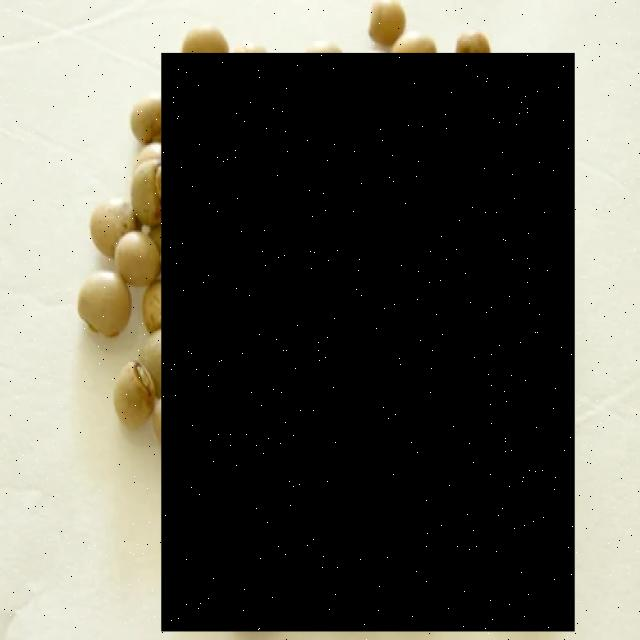Rahar_ko_Daal: (162, 53, 576, 632)
